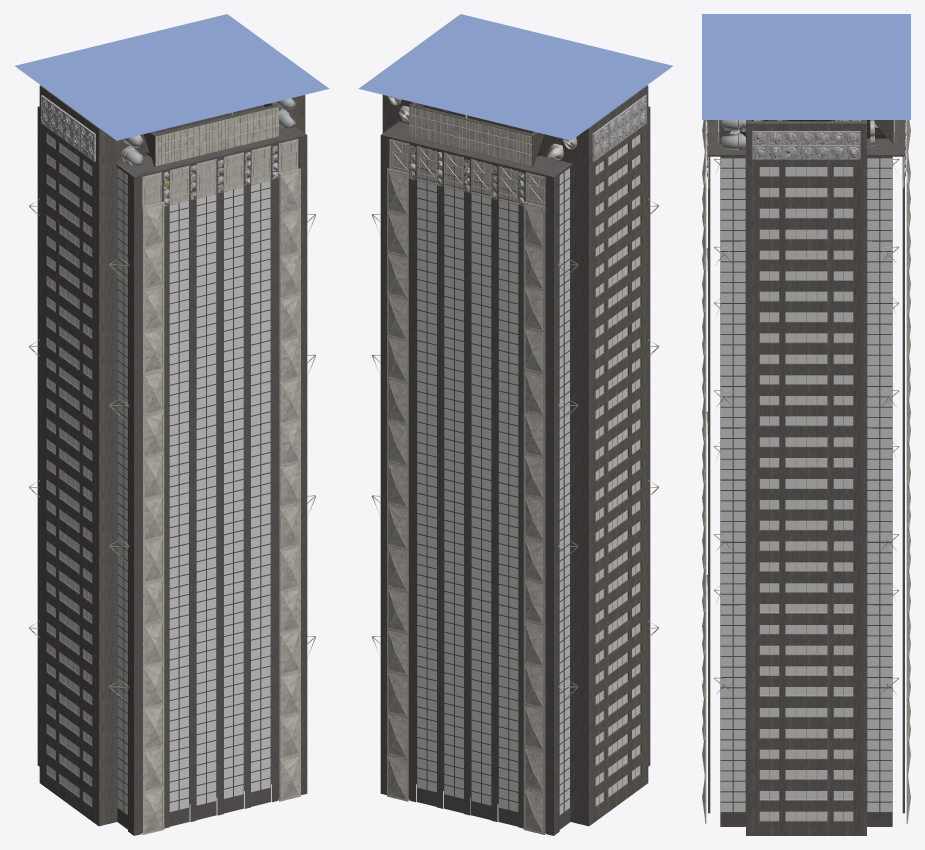
Rendered from KB3D_NEC_BldgLG_B_Main_H172.glb.
3 renders of one model, left to right at view 1: azimuth 30°, elevation 25°; view 2: azimuth 150°, elevation 25°; view 3: azimuth 270°, elevation 25°, orthographic. The views are drawn at different scales.
Parts seen in each view (by area): view 1: KB3D_NEC_BldgLG_B_Main, roof_cap_node; view 2: KB3D_NEC_BldgLG_B_Main, roof_cap_node; view 3: KB3D_NEC_BldgLG_B_Main, roof_cap_node.
Part boxes in pixels (x1,y1,x2,y2): KB3D_NEC_BldgLG_B_Main: (29, 85, 316, 835); roof_cap_node: (15, 14, 329, 140); KB3D_NEC_BldgLG_B_Main: (371, 85, 658, 835); roof_cap_node: (358, 14, 672, 140); KB3D_NEC_BldgLG_B_Main: (702, 120, 910, 835); roof_cap_node: (702, 14, 910, 119).
Size of the model in its own units: 54.56 by 172 by 45.39.
11 materials, 9 textured.
